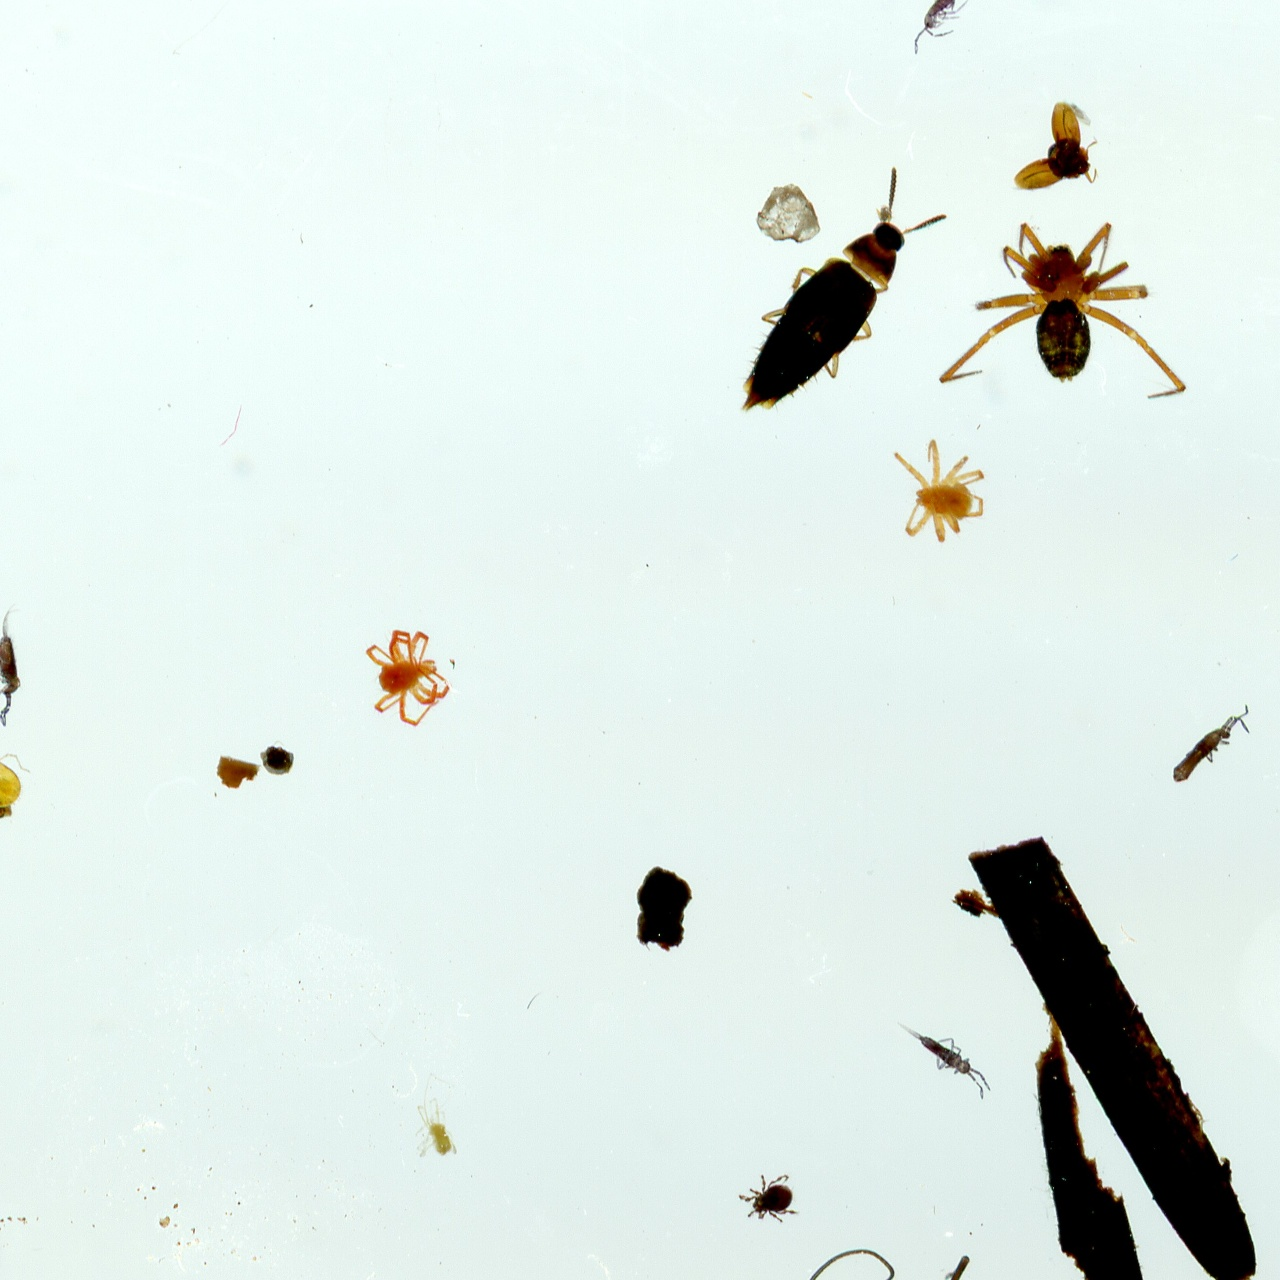arthropod: (731, 162, 951, 418), (935, 218, 1191, 402), (764, 1246, 1163, 1280), (883, 999, 1005, 1107), (1160, 688, 1266, 806), (357, 622, 455, 733), (890, 437, 986, 542), (1010, 99, 1099, 193), (414, 1073, 459, 1159), (911, 0, 972, 56), (738, 1174, 800, 1224), (0, 729, 27, 840), (0, 600, 22, 729)
